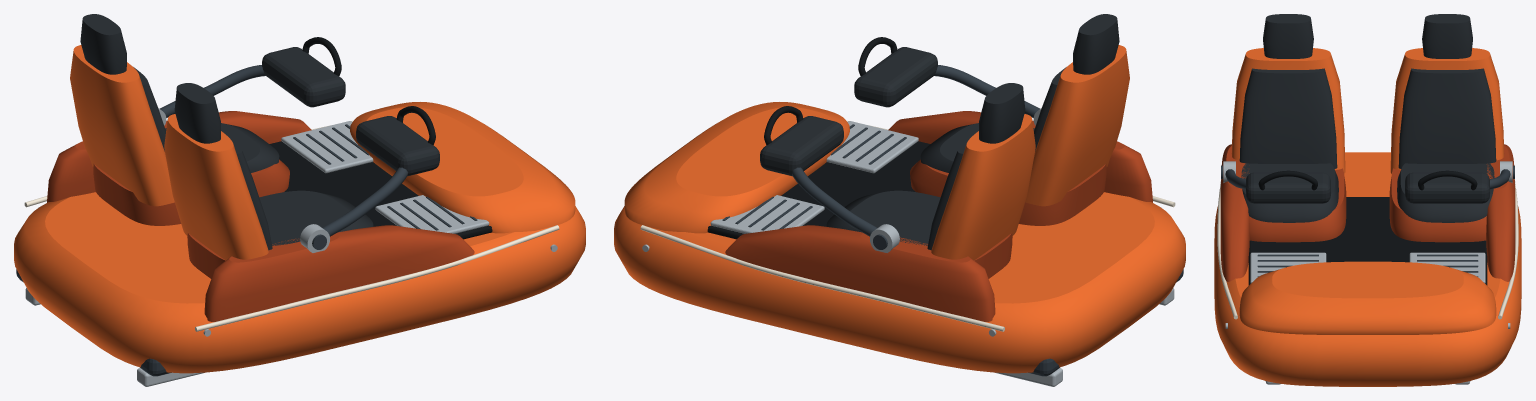
The model's file is train_car_runtime.glb.
3 renders of one model, left to right at view 1: azimuth 30°, elevation 25°; view 2: azimuth 150°, elevation 25°; view 3: azimuth 270°, elevation 25°, orthographic. The views are drawn at different scales.
Visible parts, largest first — view 1: VCTrain_SM_TrainCar_Assembled; view 2: VCTrain_SM_TrainCar_Assembled; view 3: VCTrain_SM_TrainCar_Assembled.
Part boxes in pixels (x1,y1,x2,y2): VCTrain_SM_TrainCar_Assembled: [14, 14, 585, 386]; VCTrain_SM_TrainCar_Assembled: [614, 14, 1185, 386]; VCTrain_SM_TrainCar_Assembled: [1214, 14, 1521, 386].
Bounding box in the file's own units: 2.55 × 1.39 × 1.7.
